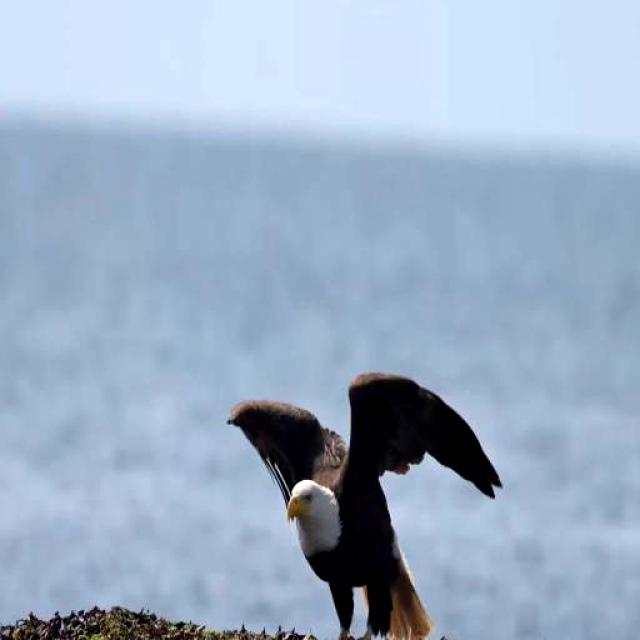airplane: (218, 339, 528, 640)
